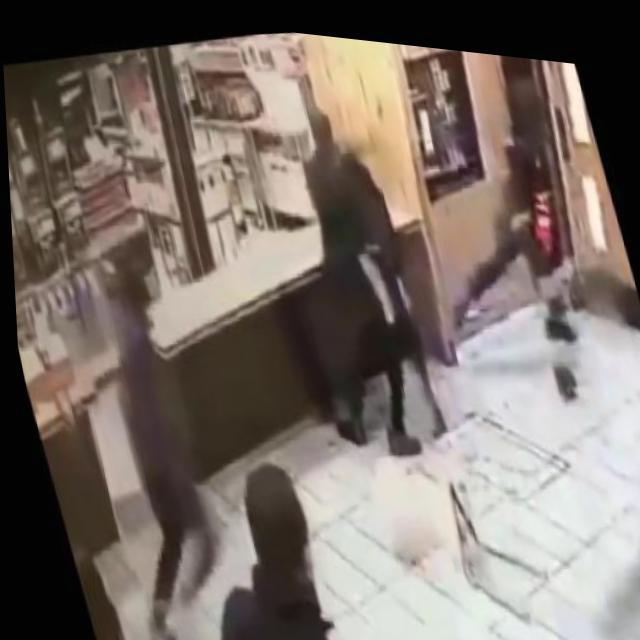fight: (277, 86, 443, 456)
